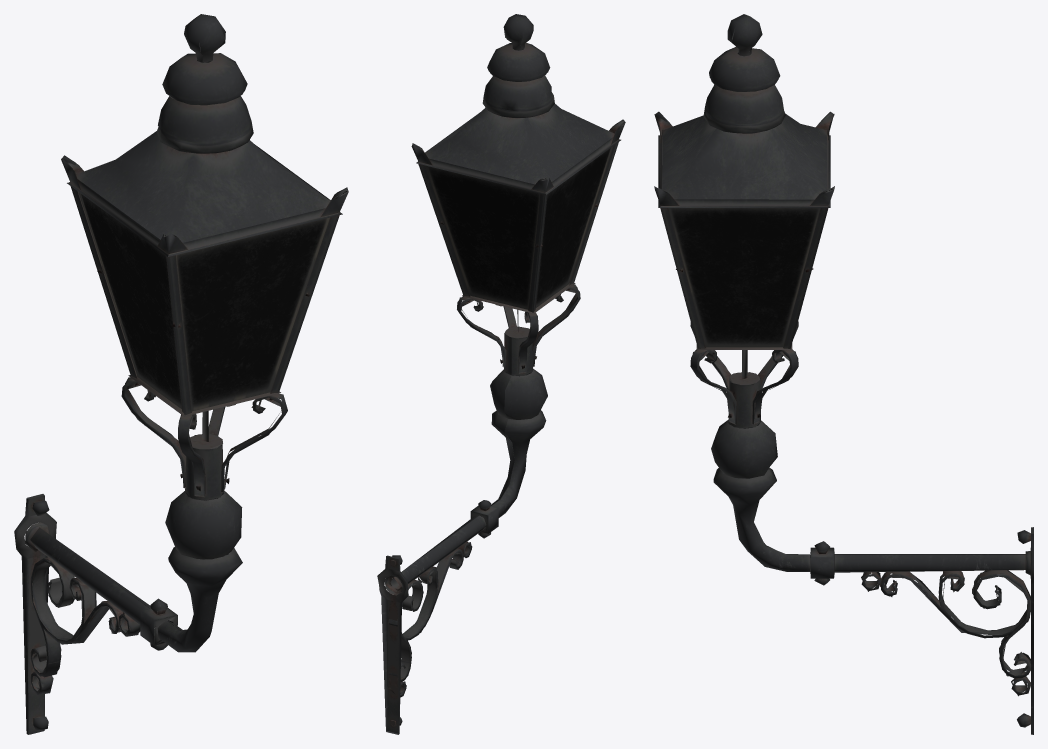
Rendered from street_lamp_head.glb.
The picture shows the model from 3 angles, left to right: view 1: azimuth 30°, elevation 25°; view 2: azimuth 150°, elevation 25°; view 3: azimuth 270°, elevation 25°; orthographic projection. The views are drawn at different scales.
Visible parts, largest first — view 1: street_lamp_head; view 2: street_lamp_head; view 3: street_lamp_head.
Part boxes in pixels (<box>): street_lamp_head: <box>14,14,348,734</box>; street_lamp_head: <box>377,14,625,734</box>; street_lamp_head: <box>654,14,1033,734</box>.
Bounding box in the file's own units: 0.3839 × 1.67 × 0.8055.
3 materials, 3 textured.
